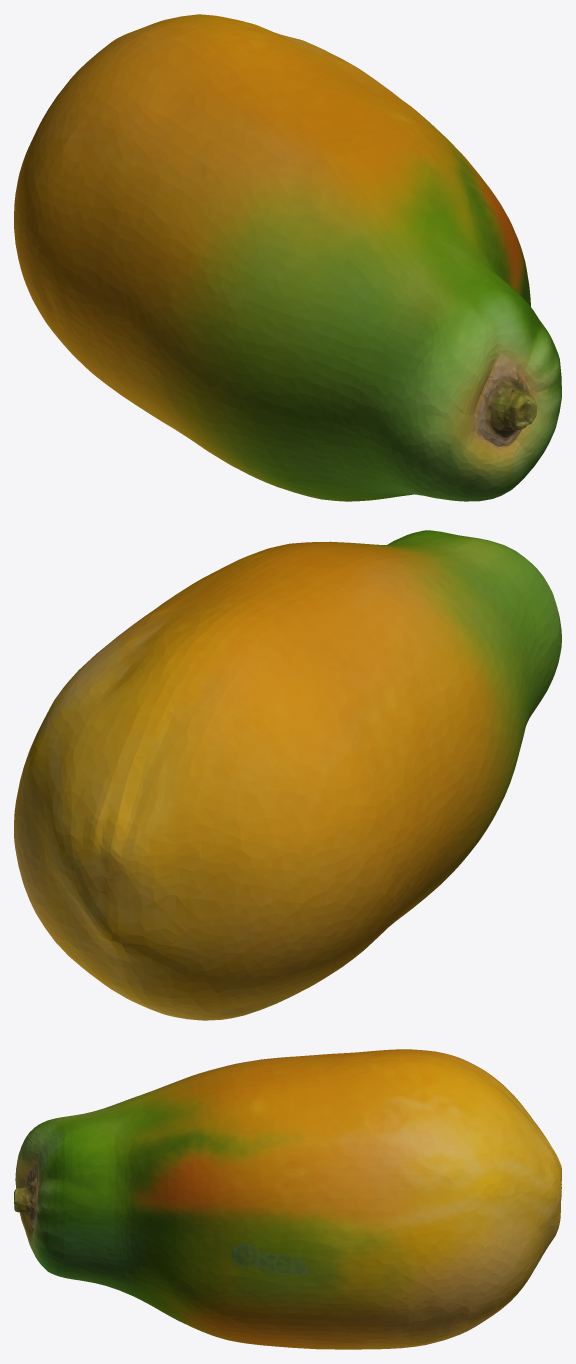
File: papaaya.glb
The picture shows the model from 3 angles, top to bottom: view 1: azimuth 30°, elevation 25°; view 2: azimuth 150°, elevation 25°; view 3: azimuth 270°, elevation 25°; orthographic projection. The views are drawn at different scales.
Visible parts, largest first — view 1: world; view 2: world; view 3: world.
Part boxes in pixels (box(x1,y1,x2,y2)): world: box(14, 14, 561, 501); world: box(14, 530, 561, 1020); world: box(14, 1049, 561, 1349).
Bounding box in the file's own units: 0.5428 × 0.5458 × 0.999.
1 material, 1 textured.
